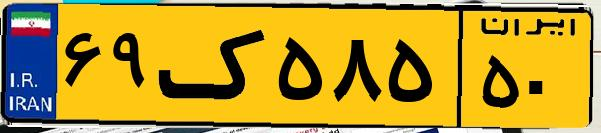0: (525, 38, 570, 115)
5: (270, 28, 330, 110), (385, 28, 445, 110), (475, 38, 525, 113)
6: (57, 26, 110, 100)
8: (330, 28, 385, 110)
9: (110, 28, 158, 98)
ک: (158, 12, 270, 120)
